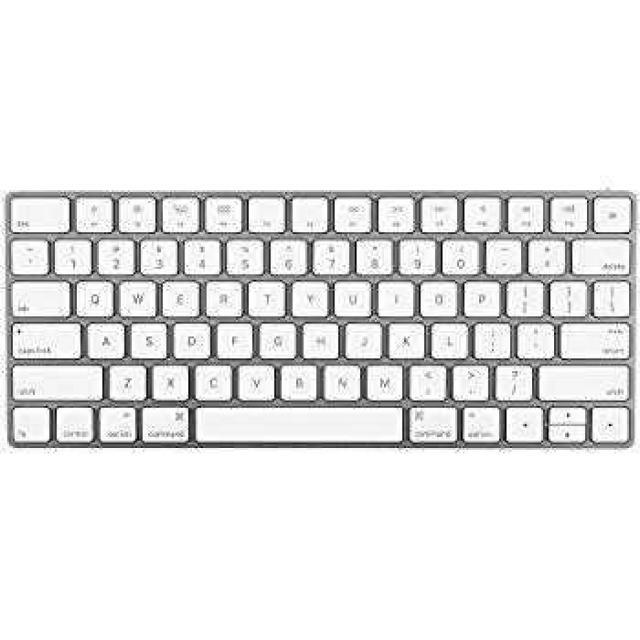keyboard: (0, 187, 640, 448)
